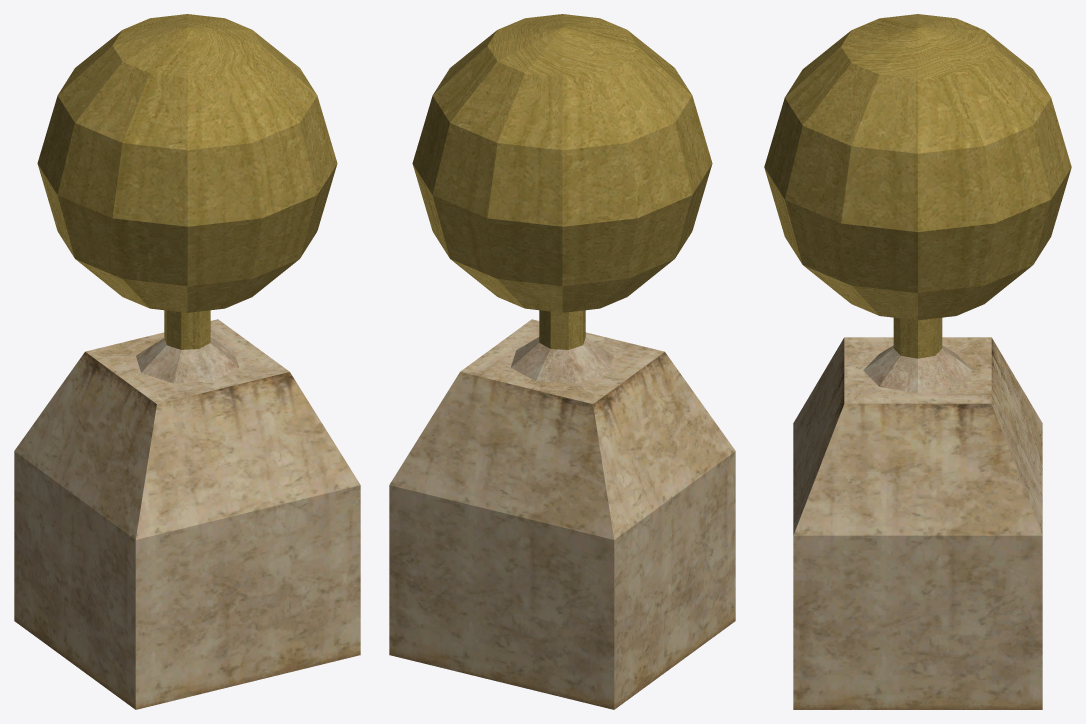
The model's file is thm_tato_guild_golden_ball_freestand_s01_l1.fbx.
The picture shows the model from 3 angles, left to right: view 1: azimuth 30°, elevation 25°; view 2: azimuth 150°, elevation 25°; view 3: azimuth 270°, elevation 25°; orthographic projection. The views are drawn at different scales.
Parts seen in each view (by area): view 1: mesh_node; view 2: mesh_node; view 3: mesh_node.
Part boxes in pixels (x1,y1,x2,y2): mesh_node: [14, 14, 360, 709]; mesh_node: [389, 14, 735, 709]; mesh_node: [764, 14, 1071, 709].
Bounding box in the file's own units: 3.7 × 8.32 × 3.7.
3 materials, 3 textured.
